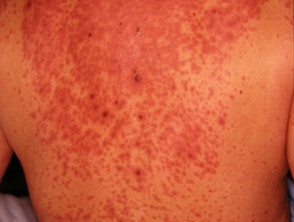SJS-TEN: (24, 0, 271, 219)
